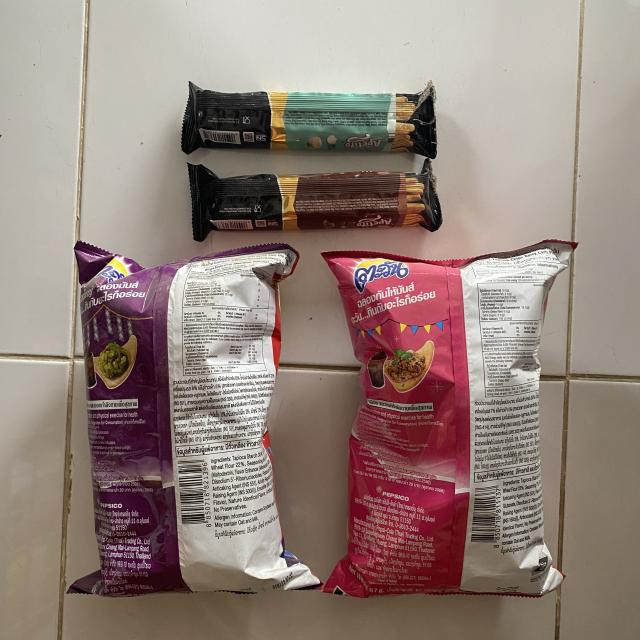plastik: (322, 240, 576, 598), (68, 242, 320, 596), (188, 159, 442, 241), (181, 82, 436, 159)
